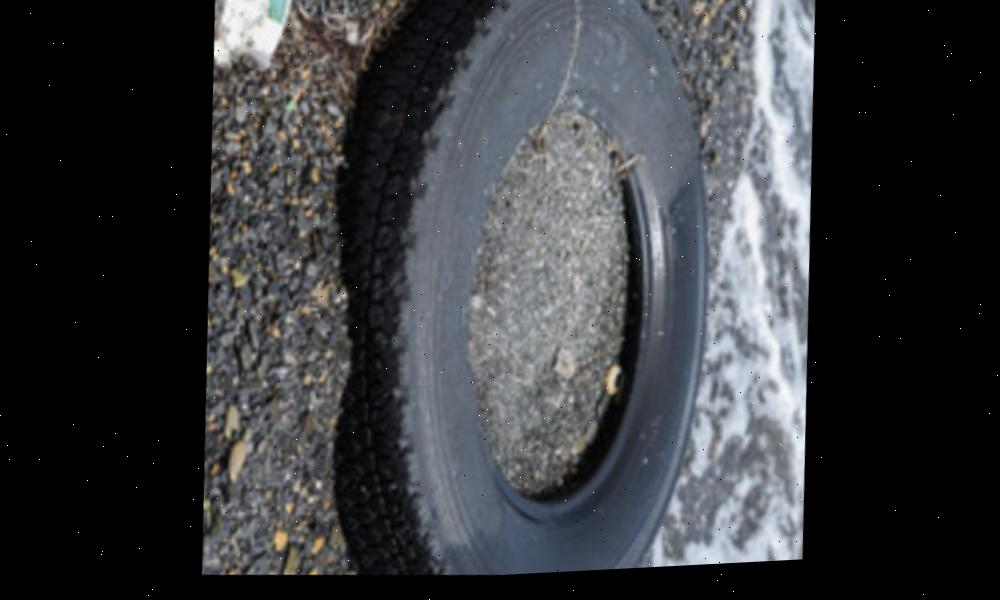carton: (211, 0, 321, 74)
tire: (323, 0, 725, 587)
